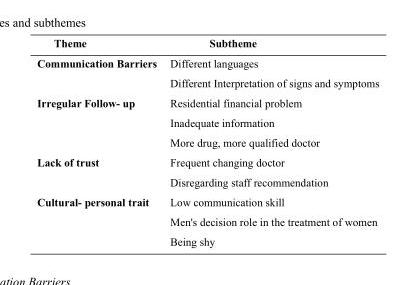table: (36, 36, 378, 247)
table column: (162, 36, 378, 247), (36, 36, 162, 247)
table column header: (36, 36, 378, 52)
table row: (36, 52, 378, 72), (36, 72, 378, 92), (36, 92, 378, 112), (36, 112, 378, 132), (36, 151, 378, 171), (36, 171, 378, 191), (36, 191, 378, 211), (36, 211, 378, 231), (36, 132, 378, 151), (36, 36, 378, 52), (36, 231, 378, 247)
table spanning cell: (36, 92, 162, 151), (36, 191, 162, 247), (36, 52, 162, 92), (36, 151, 162, 191)
